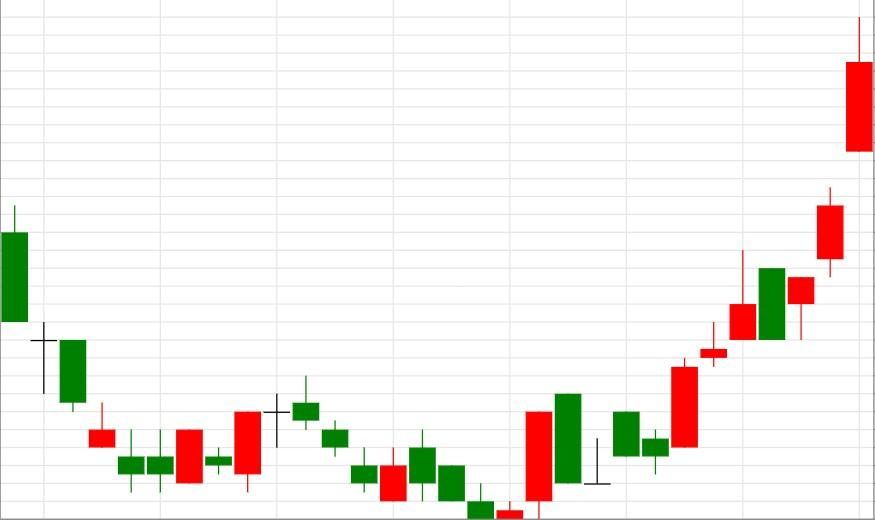bullish_engulfing_rise: (292, 375, 408, 502)
three_black_crows_fall: (117, 375, 379, 494)
